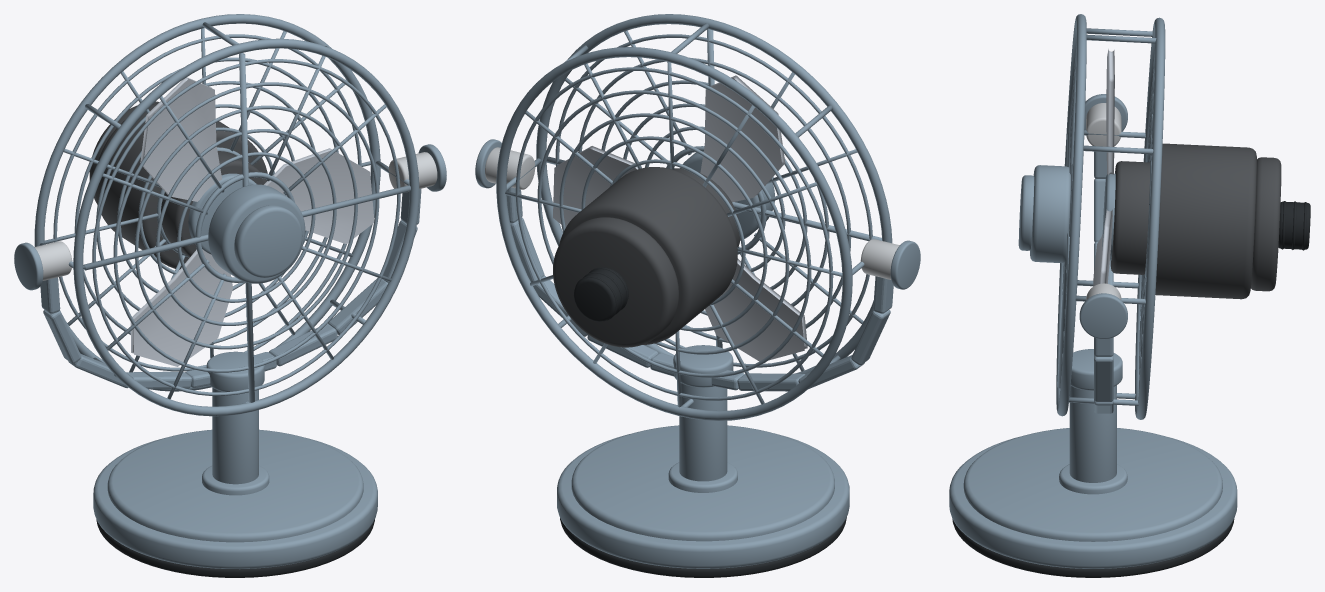
The model's file is foundry_treasure_chest.glb.
3 renders of one model, left to right at view 1: azimuth 30°, elevation 25°; view 2: azimuth 150°, elevation 25°; view 3: azimuth 270°, elevation 25°, orthographic. The views are drawn at different scales.
Visible parts, largest first — view 1: front_cage, fan_base_upper, rear_cage, fan_base_lower, support_yoke, blade_03, blade_02, blade_01, motor_housing, central_hub_cap, central_hub, support_column (+11 smaller); view 2: rear_cage, fan_base_upper, front_cage, motor_housing, motor_rear_cap, fan_base_lower, support_yoke, blade_03, blade_02, support_column, blade_01, base_rubber_pad (+11 smaller); view 3: fan_base_upper, motor_housing, fan_base_lower, rear_cage, front_cage, motor_front_neck, support_column, central_hub, motor_rear_cap, support_yoke, base_rubber_pad, cage_depth_connectors (+11 smaller).
Part boxes in pixels (x1,y1,x2,y2): front_cage: (73,38,419,416); fan_base_upper: (107,429,363,542); rear_cage: (34,14,380,391); fan_base_lower: (93,438,377,569); support_yoke: (40,188,421,389); blade_03: (140,77,222,201); blade_02: (130,249,232,366); blade_01: (264,148,374,244); motor_housing: (95,102,267,269); central_hub_cap: (234,205,302,277); central_hub: (208,184,305,283); support_column: (212,387,258,484); rear_cage: (496,47,852,420); fan_base_upper: (571,425,834,541); front_cage: (536,14,892,374); motor_housing: (559,167,737,344); motor_rear_cap: (553,217,678,347); fan_base_lower: (557,434,849,568); support_yoke: (506,187,893,391); blade_03: (700,75,785,202); blade_02: (705,258,807,361); support_column: (679,383,727,481); blade_01: (553,146,637,227); base_rubber_pad: (560,517,846,577); fan_base_upper: (963,428,1222,541); motor_housing: (1155,143,1256,299); fan_base_lower: (949,436,1237,568); rear_cage: (1135,17,1165,419); front_cage: (1056,14,1086,416); motor_front_neck: (1110,161,1149,274); support_column: (1069,385,1116,482); central_hub: (1030,165,1071,263); motor_rear_cap: (1251,157,1281,291); support_yoke: (1094,151,1113,413); base_rubber_pad: (952,519,1234,577); cage_depth_connectors: (1068,28,1156,405).
Size of the model in its own units: 1.79 by 2 by 1.35.
